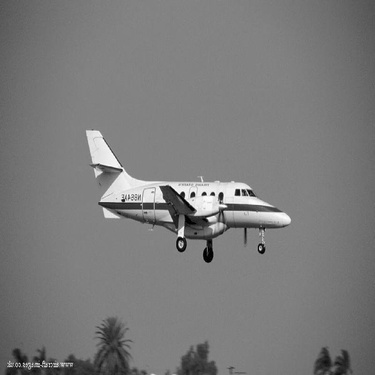airplane: (69, 121, 296, 263)
